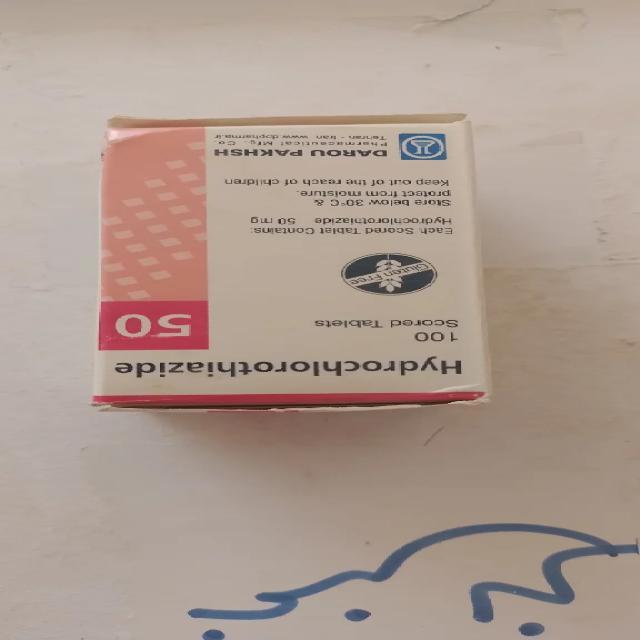drug-name: (111, 356, 464, 381)
